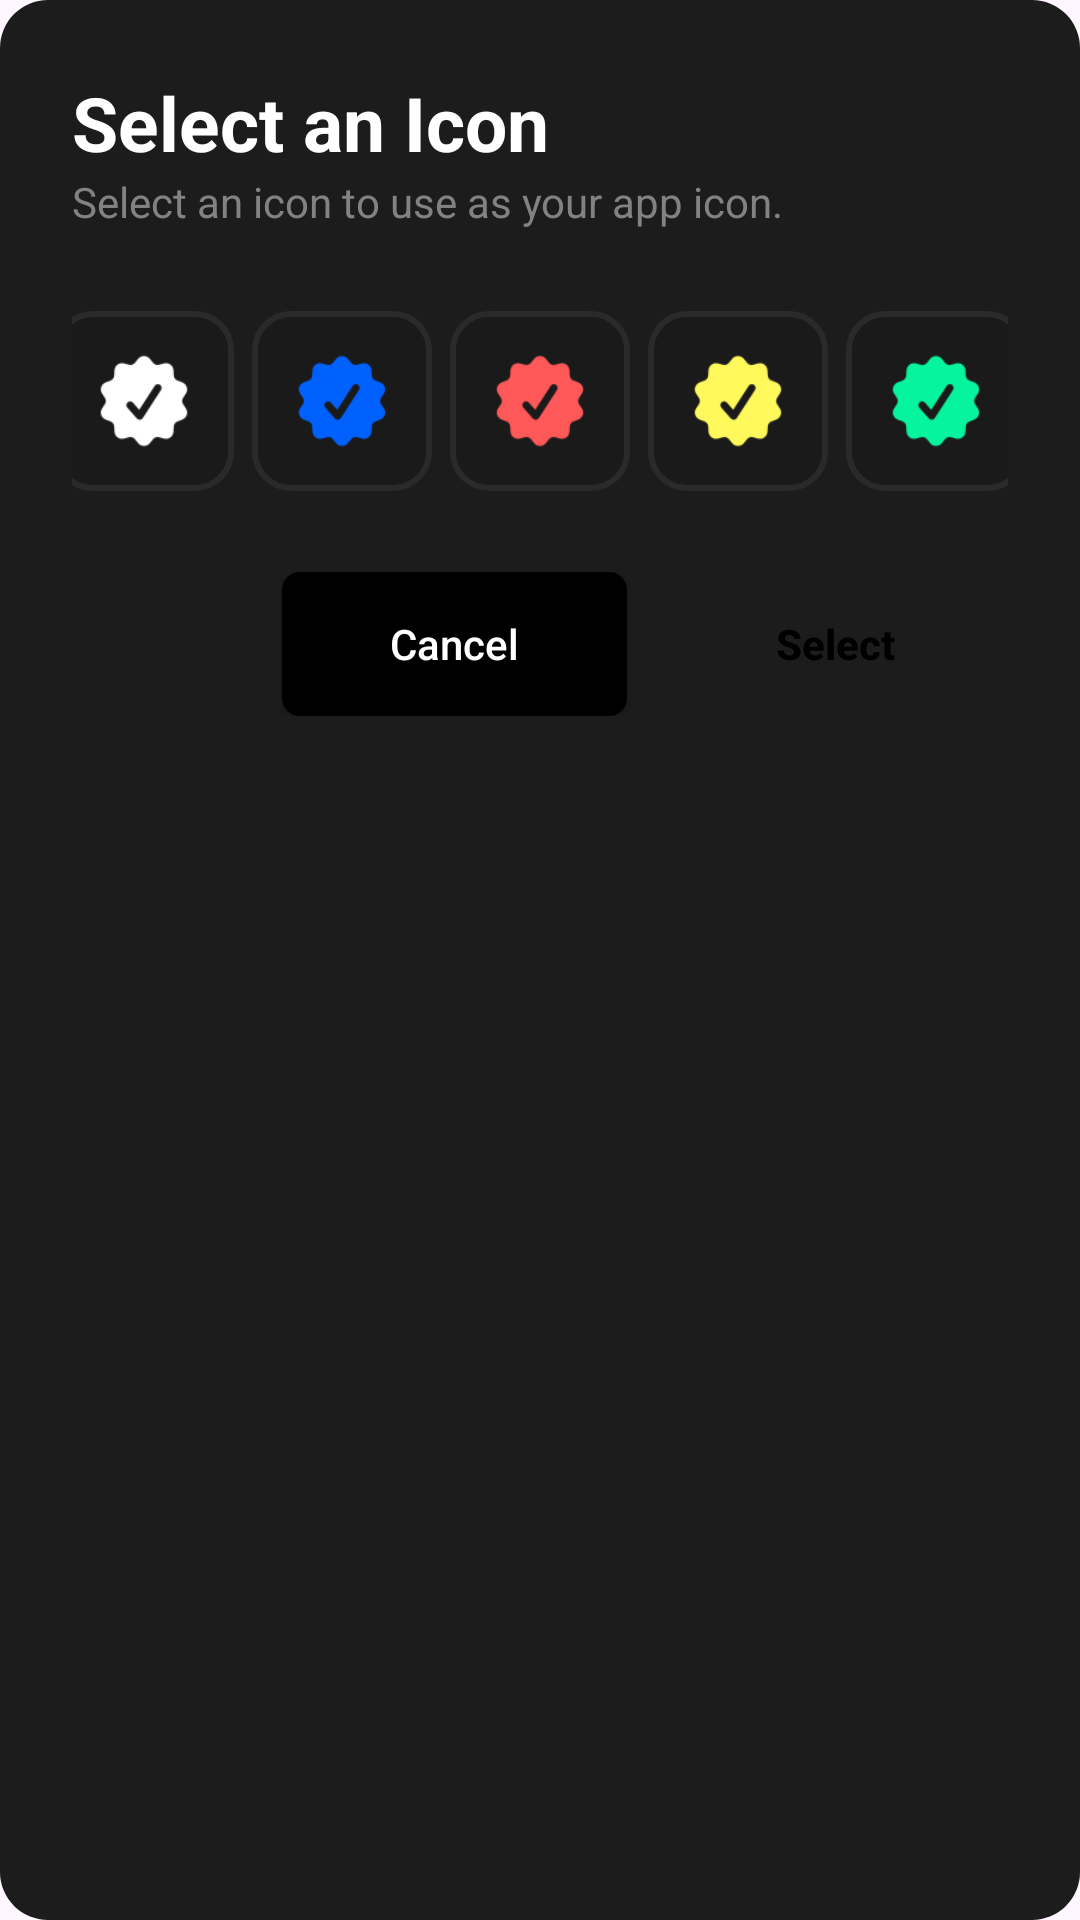

Icons on this 1080 × 1920 Android screen, each with its box as BBox(x1, y1, x2, y2):
Blue Icon: BBox(298, 355, 386, 447)
Green Icon: BBox(892, 355, 980, 447)
Red Icon: BBox(496, 355, 584, 447)
White Icon: BBox(100, 355, 188, 447)
Yellow Icon: BBox(694, 355, 782, 447)
